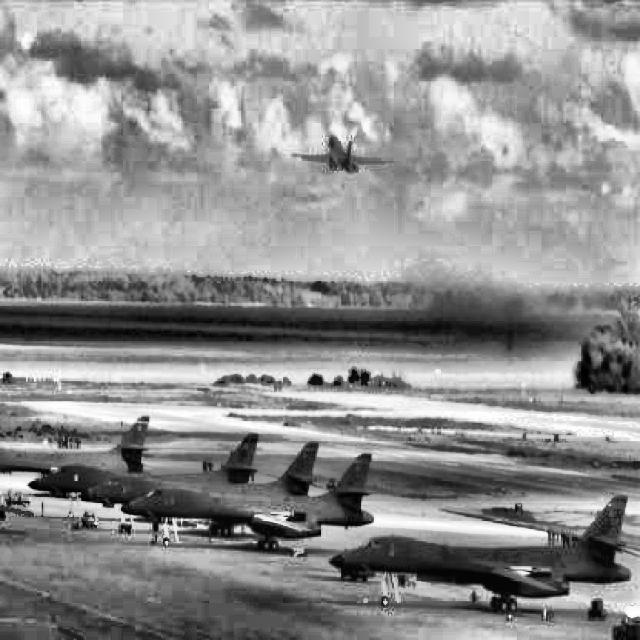B1: (327, 496, 640, 613), (119, 453, 379, 552), (77, 441, 329, 537), (26, 432, 272, 523), (1, 415, 162, 499), (292, 135, 399, 173)
